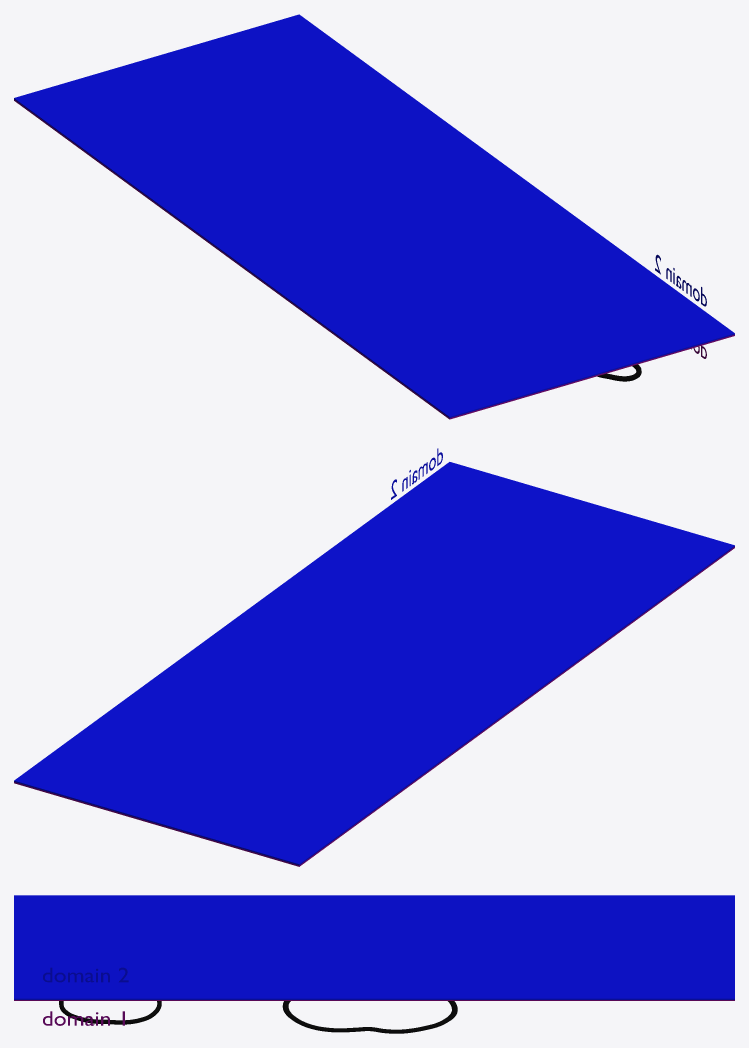
Rendered from Top.glb.
The picture shows the model from 3 angles, top to bottom: view 1: azimuth 30°, elevation 25°; view 2: azimuth 150°, elevation 25°; view 3: azimuth 270°, elevation 25°; orthographic projection. The views are drawn at different scales.
Parts seen in each view (by area): view 1: Plane, Plane.001; view 2: Plane, Plane.001; view 3: Plane, BézierCircle.008, Plane.001, BézierCircle.009, domain 2, Domain 1.001.
Boxes of the visible parts, <box> form: Plane: <box>14,14,734,417</box>; Plane.001: <box>14,99,734,419</box>; Plane: <box>14,462,734,865</box>; Plane.001: <box>14,547,734,866</box>; Plane: <box>14,895,734,999</box>; BézierCircle.008: <box>282,1001,457,1033</box>; Plane.001: <box>14,1000,734,1000</box>; BézierCircle.009: <box>59,1001,161,1024</box>; domain 2: <box>43,967,128,982</box>; Domain 1.001: <box>43,1011,124,1025</box>.
Bounding box in the file's own units: 0.0552 × 0.0172 × 0.1459.
